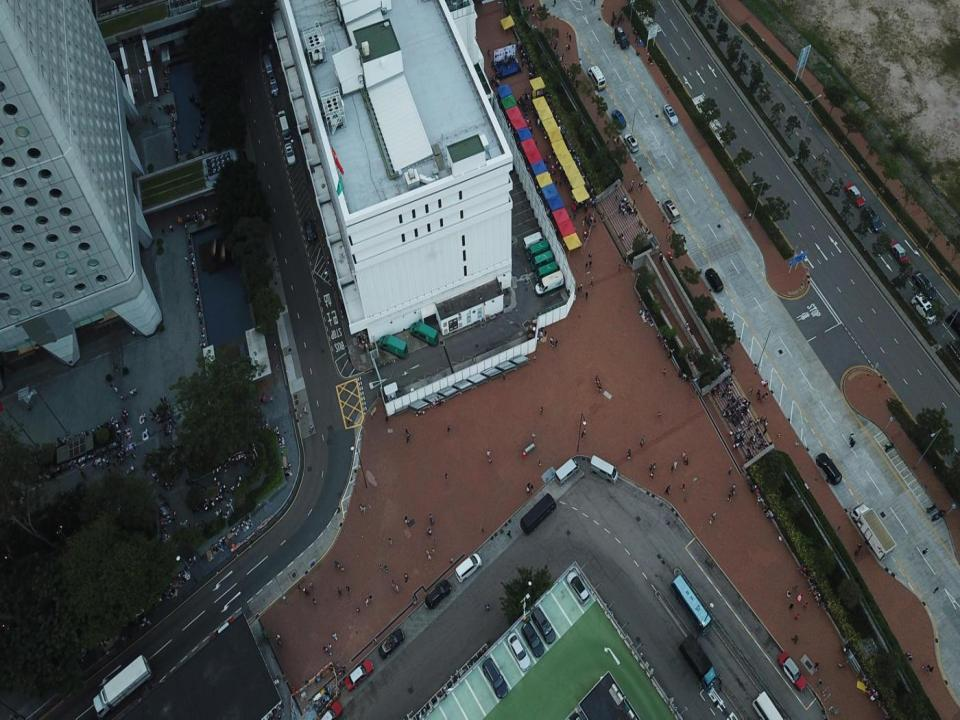bus: (670, 575, 712, 635), (520, 492, 557, 536), (751, 690, 783, 719)
car: (777, 651, 806, 690), (344, 660, 374, 692), (507, 632, 531, 672), (484, 658, 507, 699), (532, 607, 556, 643), (816, 453, 842, 486), (566, 570, 590, 605), (377, 628, 404, 659), (425, 578, 451, 610), (522, 622, 544, 659), (912, 270, 937, 301), (210, 618, 238, 643), (888, 239, 910, 266), (311, 700, 342, 719), (862, 206, 882, 233), (845, 182, 865, 208), (705, 267, 723, 293), (278, 109, 291, 140), (663, 200, 681, 222), (615, 26, 630, 50), (663, 105, 679, 126), (304, 218, 317, 242), (612, 109, 626, 130), (285, 142, 296, 166), (625, 134, 638, 152), (269, 71, 278, 96)
truck: (92, 654, 154, 719), (851, 504, 896, 561), (678, 632, 719, 693)
van: (588, 454, 617, 484), (911, 292, 937, 325), (454, 553, 482, 583), (379, 334, 408, 360), (535, 271, 566, 295), (410, 322, 438, 346), (555, 458, 579, 484), (534, 260, 558, 280), (587, 66, 605, 92), (522, 230, 545, 250), (530, 250, 553, 270), (527, 240, 548, 260), (263, 54, 272, 74)
